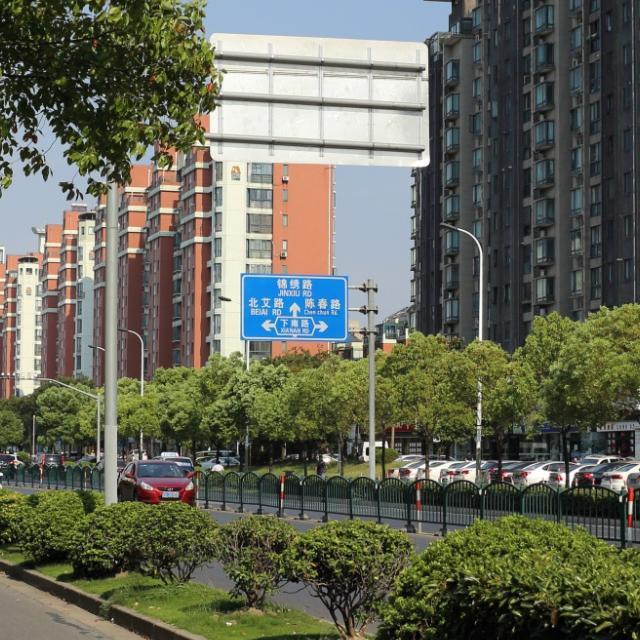curb: (0, 560, 204, 639)
